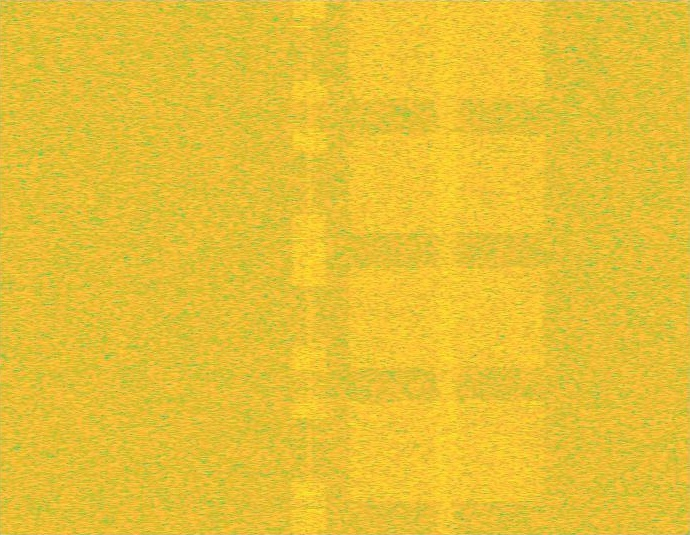5G: (343, 0, 550, 534)
DSSS: (433, 0, 461, 534), (307, 0, 312, 534)
LTE: (293, 0, 327, 534)
Radar: (293, 0, 307, 534)
